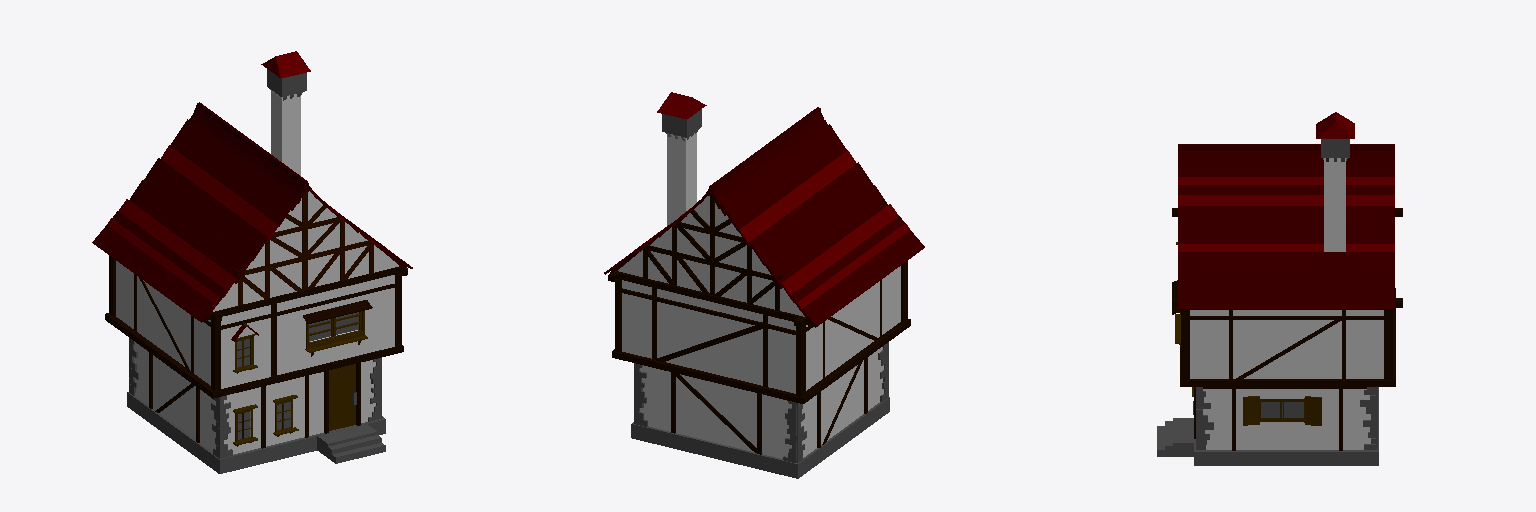
Rendered from house.obj.
The picture shows the model from 3 angles: view 1: azimuth 30°, elevation 25°; view 2: azimuth 150°, elevation 25°; view 3: azimuth 270°, elevation 25°; orthographic projection.
Visible parts, largest first — view 1: House_001:body House_001:pCube70, House_001:body House_001:pCube1, House_001:body House_001:pPrism1, House_001:group17 House_001:pCube163, House_001:group17 House_001:pCube165, House_001:pCube26 House_001:body, House_001:group17 House_001:pCube168, House_001:group17 House_001:pCube171, House_001:group17 House_001:pCube164, House_001:group17 House_001:pCube175, House_001:pCube194, House_001:pCube116 (+16 smaller); view 2: House_001:body House_001:pCube70, House_001:body House_001:pCube1, House_001:body House_001:pPrism1, House_001:group17 House_001:pCube163, House_001:pCube26 House_001:body, House_001:group17 House_001:pCube165, House_001:group17 House_001:pCube168, House_001:group17 House_001:pCube171, House_001:pCube194, House_001:group17 House_001:pCube164, House_001:group17 House_001:pCube175, House_001:pCube119 (+13 smaller); view 3: House_001:body House_001:pCube70, House_001:body House_001:pCube1, House_001:group18 House_001:pCube177, House_001:group18 House_001:pCube160, House_001:group18 House_001:pCube173, House_001:pCube26 House_001:body, House_001:group18 House_001:pCube167, House_001:group18 House_001:pCube169, House_001:group18 House_001:pCube171, House_001:group18 House_001:pCube172, House_001:group18 House_001:pCube164, House_001:pCube194 (+13 smaller).
Part boxes in pixels (x1,y1,x2,y2): House_001:body House_001:pCube70: (116,261,394,388); House_001:body House_001:pCube1: (134,342,375,454); House_001:body House_001:pPrism1: (213,191,398,311); House_001:group17 House_001:pCube163: (170,119,296,226); House_001:group17 House_001:pCube165: (144,158,267,260); House_001:pCube26 House_001:body: (127,392,385,473); House_001:group17 House_001:pCube168: (129,180,251,283); House_001:group17 House_001:pCube171: (92,225,216,322); House_001:group17 House_001:pCube164: (161,145,278,239); House_001:group17 House_001:pCube175: (119,199,236,297); House_001:pCube194: (271,92,300,175); House_001:pCube116: (210,345,403,396); House_001:body House_001:pCube70: (622,266,900,393); House_001:body House_001:pCube1: (640,347,883,458); House_001:body House_001:pPrism1: (618,196,804,316); House_001:group17 House_001:pCube163: (720,124,846,231); House_001:pCube26 House_001:body: (631,397,889,478); House_001:group17 House_001:pCube165: (749,162,872,265); House_001:group17 House_001:pCube168: (765,185,887,288); House_001:group17 House_001:pCube171: (802,230,924,327); House_001:pCube194: (667,133,696,225); House_001:group17 House_001:pCube164: (739,150,856,244); House_001:group17 House_001:pCube175: (781,204,898,302); House_001:pCube119: (612,349,807,403); House_001:body House_001:pCube70: (1190,310,1383,378); House_001:body House_001:pCube1: (1203,389,1370,449); House_001:group18 House_001:pCube177: (1178,266,1394,286); House_001:group18 House_001:pCube160: (1178,151,1394,167); House_001:group18 House_001:pCube173: (1178,252,1394,265); House_001:pCube26 House_001:body: (1194,387,1378,465); House_001:group18 House_001:pCube167: (1178,229,1394,243); House_001:group18 House_001:pCube169: (1178,215,1394,228); House_001:group18 House_001:pCube171: (1178,298,1394,309); House_001:group18 House_001:pCube172: (1178,287,1394,297); House_001:group18 House_001:pCube164: (1178,195,1394,205); House_001:pCube194: (1324,158,1345,251).
Size of the model in its own units: 5.38 by 8.09 by 5.38.